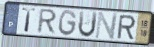G: (58, 9, 78, 38)
N: (94, 11, 119, 40)
R: (36, 8, 59, 35), (116, 15, 137, 41)
T: (21, 7, 37, 33)
U: (77, 10, 99, 39)
